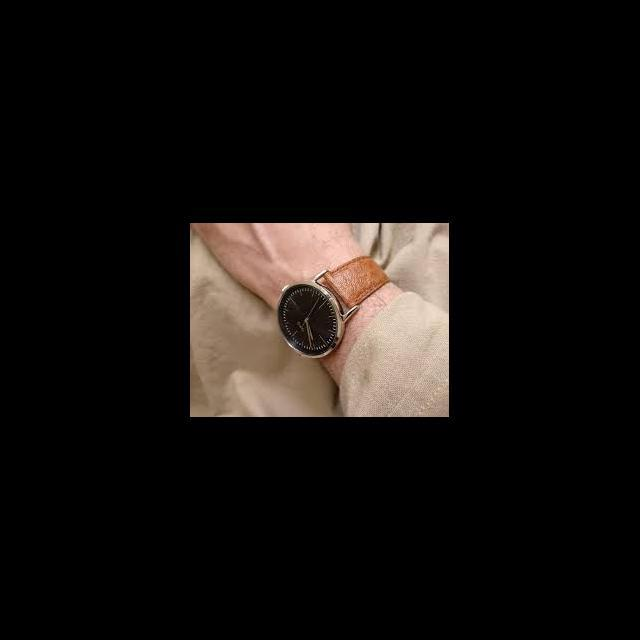watch: (277, 245, 398, 382)
